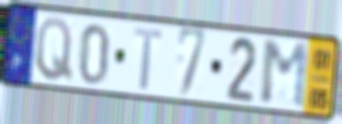0: (78, 21, 113, 87)
2: (225, 35, 259, 105)
7: (173, 26, 208, 103)
M: (259, 39, 311, 112)
Q: (34, 15, 74, 84)
T: (132, 24, 165, 92)
